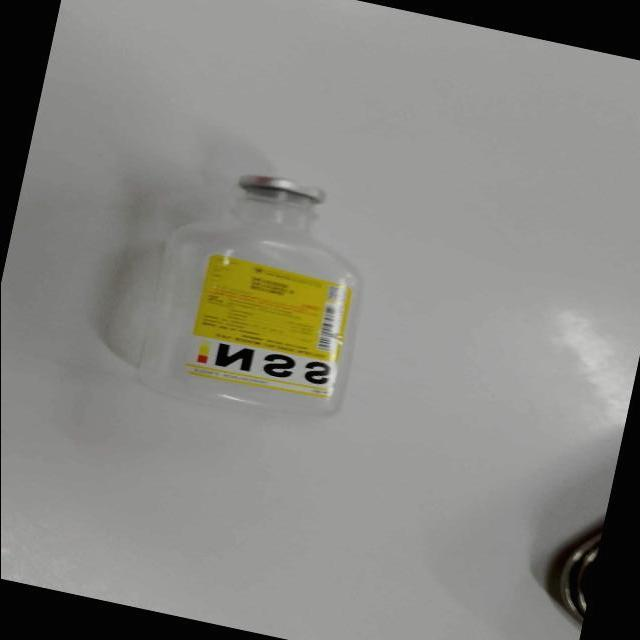General: (3, 3, 639, 639)
Infectious: (104, 175, 362, 418)
